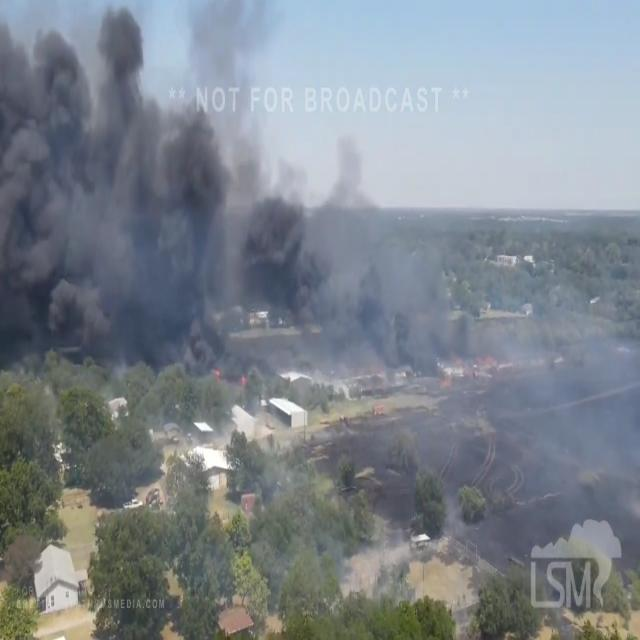Smoke: (4, 31, 313, 371)
